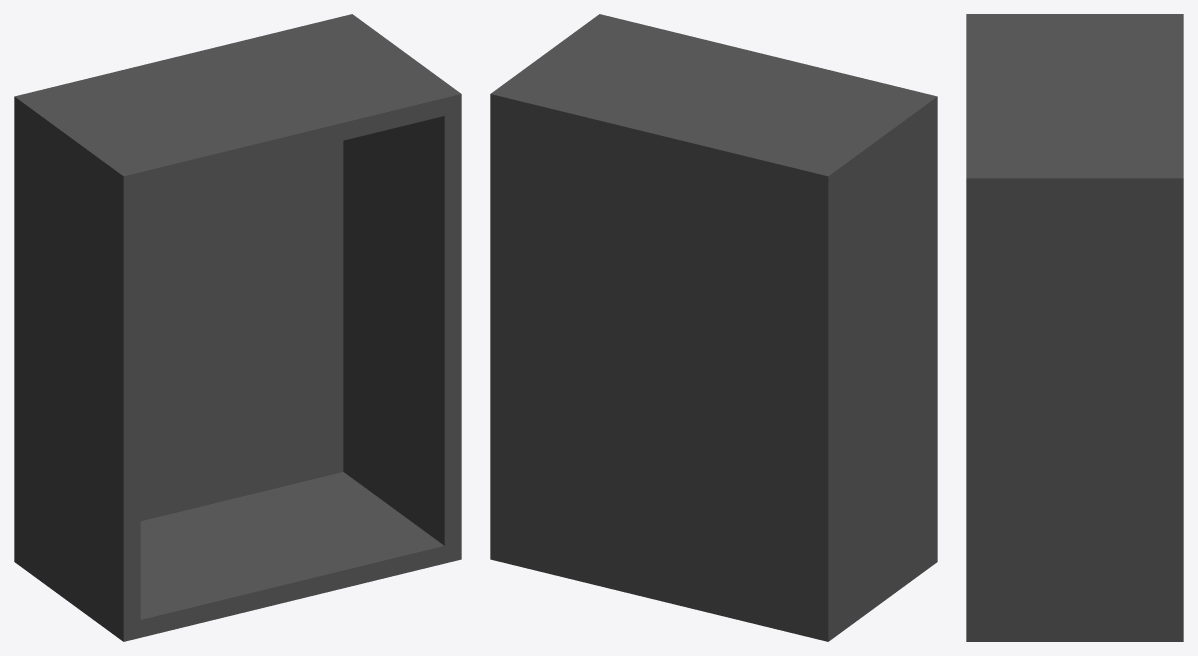
Rendered from Itr_Wardrobe3_Body2_04.FBX.
3 renders of one model, left to right at view 1: azimuth 30°, elevation 25°; view 2: azimuth 150°, elevation 25°; view 3: azimuth 270°, elevation 25°, orthographic.
Visible parts, largest first — view 1: Itr_Wardrobe3_Body2_04; view 2: Itr_Wardrobe3_Body2_04; view 3: Itr_Wardrobe3_Body2_04.
Boxes of the visible parts, x1,y1,x2,y2 form: Itr_Wardrobe3_Body2_04: [14, 14, 461, 641]; Itr_Wardrobe3_Body2_04: [490, 14, 937, 641]; Itr_Wardrobe3_Body2_04: [966, 14, 1183, 641].
Bounding box in the file's own units: 43.75 × 57.59 × 24.49.
